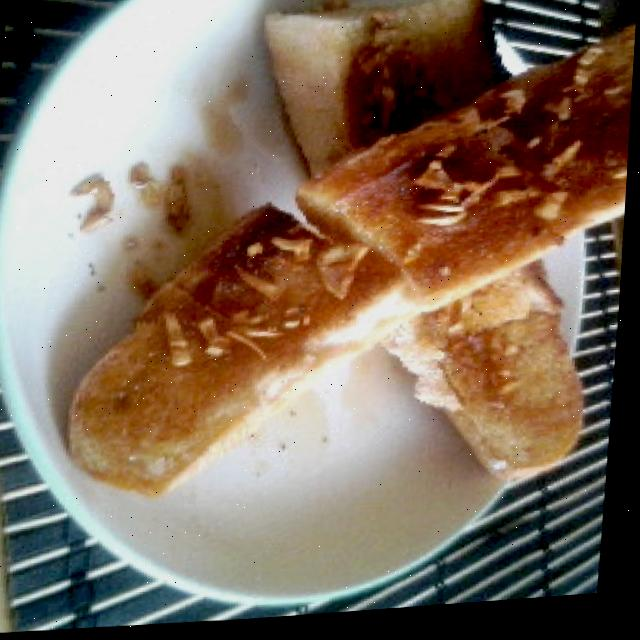面包点心: (49, 0, 639, 503)
